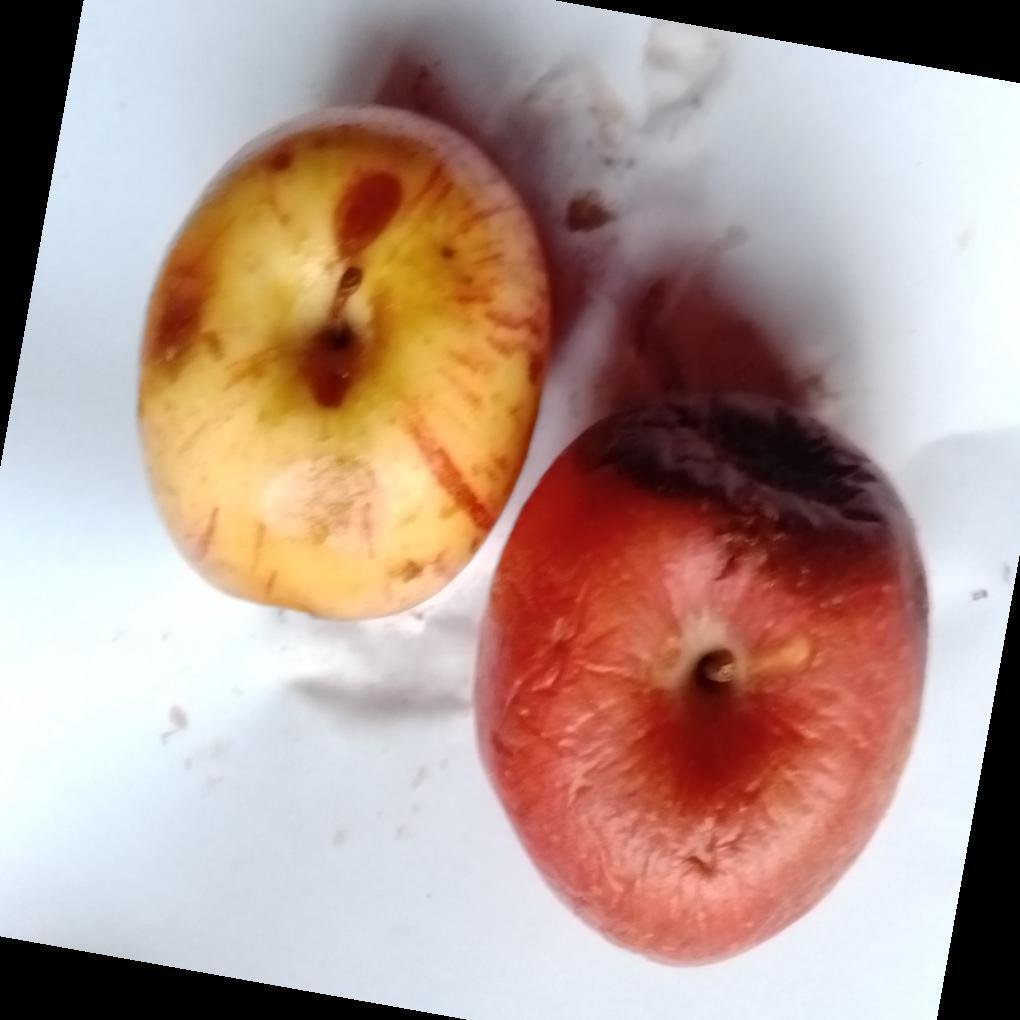FreshOrange: (473, 393, 881, 936), (136, 108, 553, 623)
